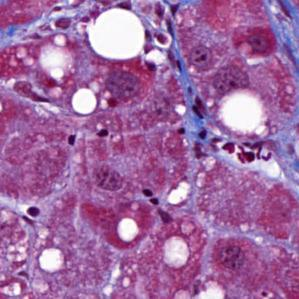inflammation: (211, 133, 272, 164), (152, 31, 173, 51)
